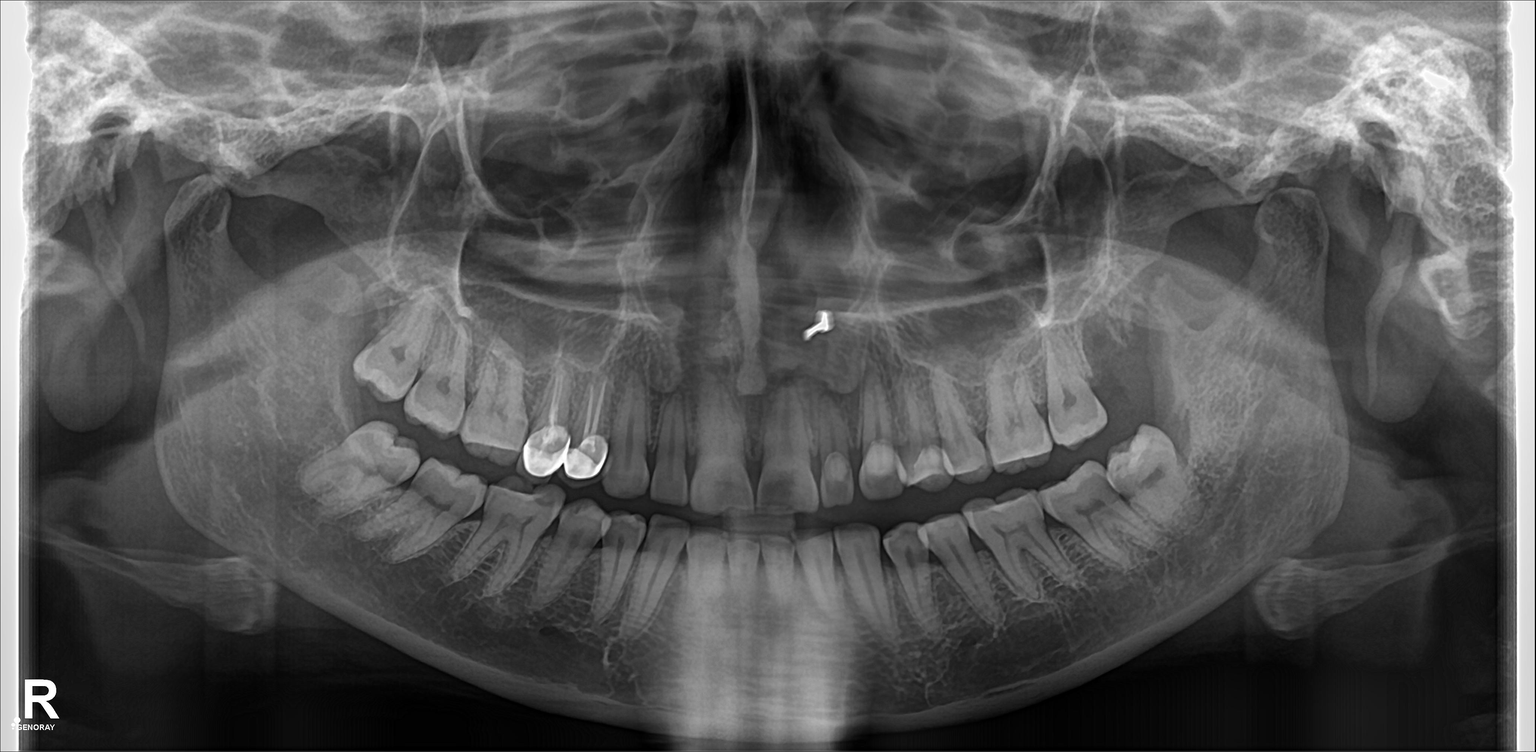Dental Caries: (760, 478, 797, 509)
Endodontically Treated Tooth: (533, 352, 577, 474), (575, 359, 606, 474)
Impacted Third Molar: (1108, 437, 1213, 521), (305, 427, 420, 500)
Missing Tooth: (1082, 313, 1150, 417)
